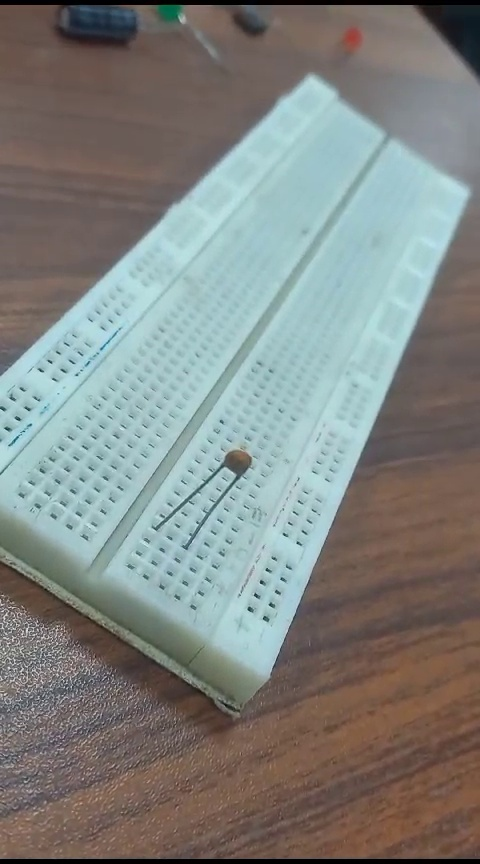ceramic capacitor: (159, 444, 260, 552)
